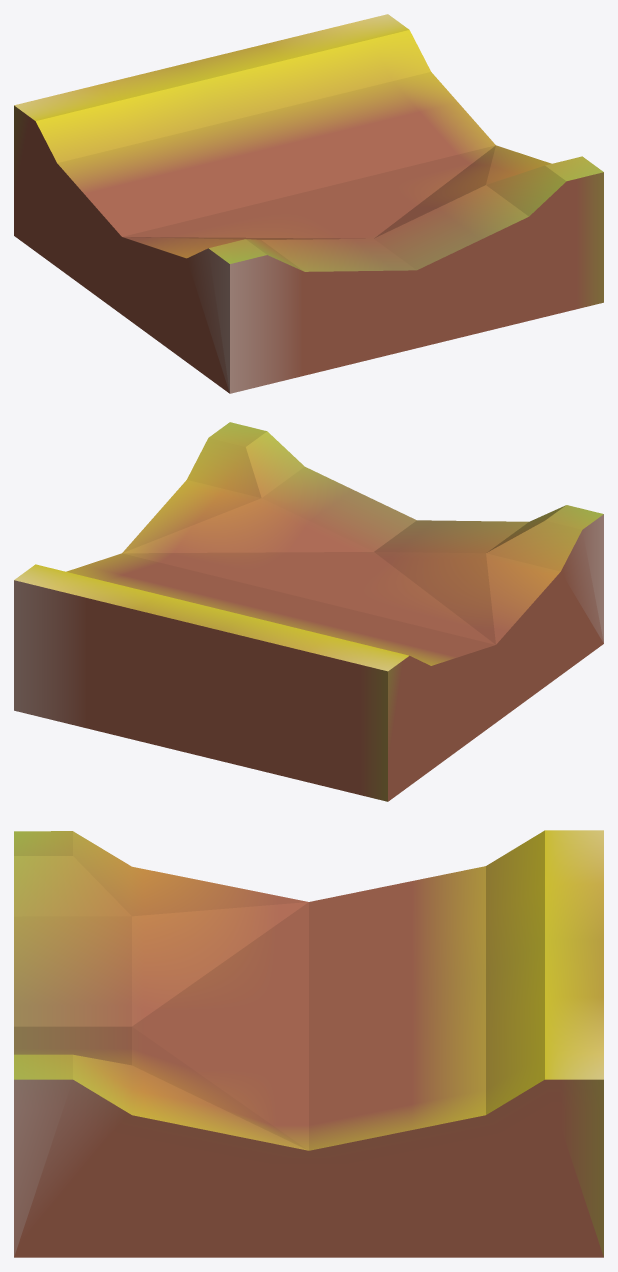
The model's file is River.Fork.A.glb.
3 renders of one model, top to bottom at view 1: azimuth 30°, elevation 25°; view 2: azimuth 150°, elevation 25°; view 3: azimuth 270°, elevation 25°, orthographic. The views are drawn at different scales.
Parts seen in each view (by area): view 1: River.Fork.A; view 2: River.Fork.A; view 3: River.Fork.A.
Boxes of the visible parts, x1=… form: River.Fork.A: x1=14, y1=14, x2=603, y2=393; River.Fork.A: x1=14, y1=422, x2=603, y2=801; River.Fork.A: x1=14, y1=830, x2=603, y2=1257.
Size of the model in its own units: 3 by 1 by 3.
1 material, 1 textured.
